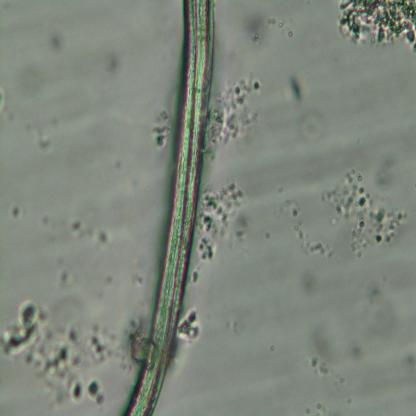Background material: (6, 302, 112, 412), (317, 160, 413, 259), (192, 177, 251, 272), (336, 0, 416, 52), (272, 192, 331, 262), (216, 73, 265, 141), (361, 274, 401, 342), (298, 324, 337, 378), (243, 11, 297, 49), (172, 300, 209, 344), (296, 104, 325, 140), (151, 108, 174, 152), (302, 268, 322, 302), (296, 399, 335, 416), (55, 263, 76, 288), (103, 49, 122, 76), (46, 32, 66, 57), (223, 314, 240, 338), (0, 78, 9, 122), (287, 78, 305, 99), (347, 344, 365, 364), (95, 228, 113, 246), (37, 135, 53, 155), (8, 203, 24, 222), (73, 219, 87, 238), (402, 350, 415, 368)
Microfibre: (124, 0, 214, 416)
